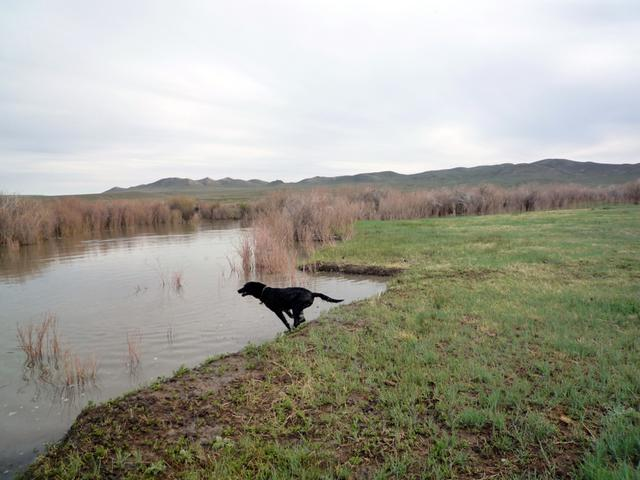dog: (231, 272, 378, 336)
